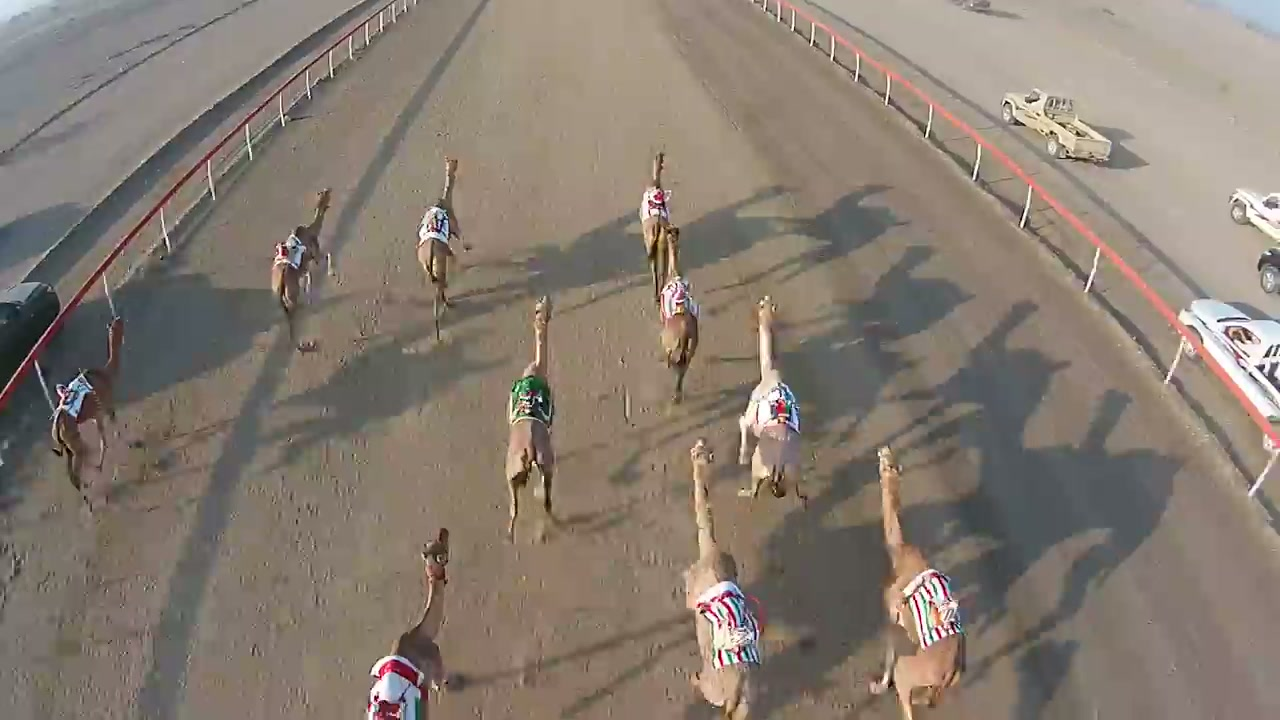animal_footprint: (253, 335, 371, 719), (615, 364, 693, 711), (431, 529, 564, 719)
